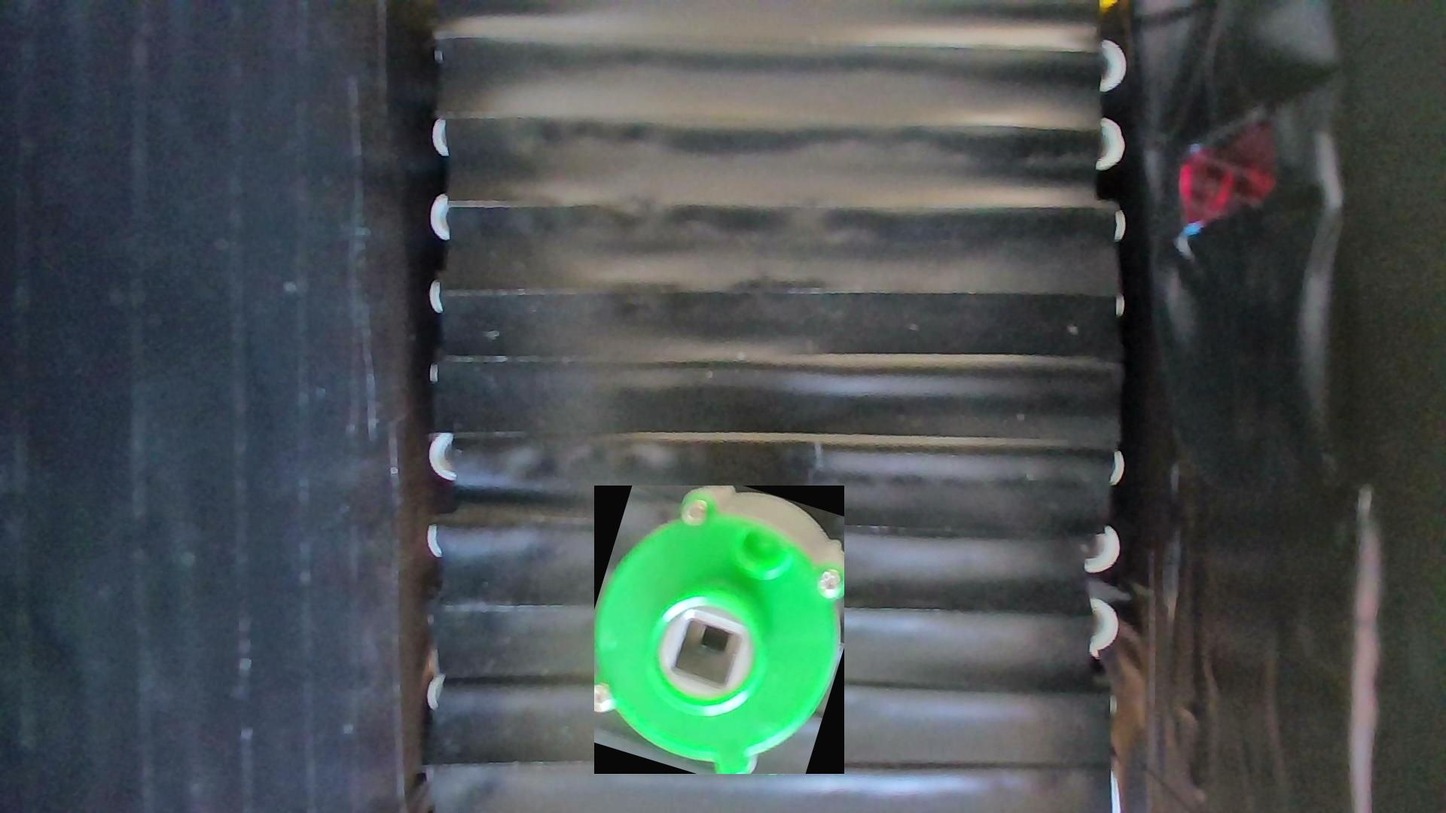cartridge: (594, 486, 844, 775)
